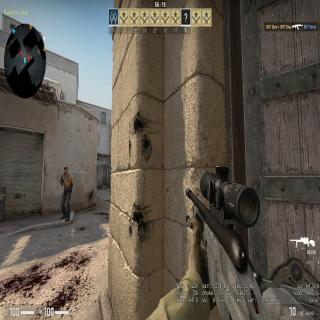T-Body: (60, 164, 74, 226)
T-Head: (64, 167, 68, 176)
